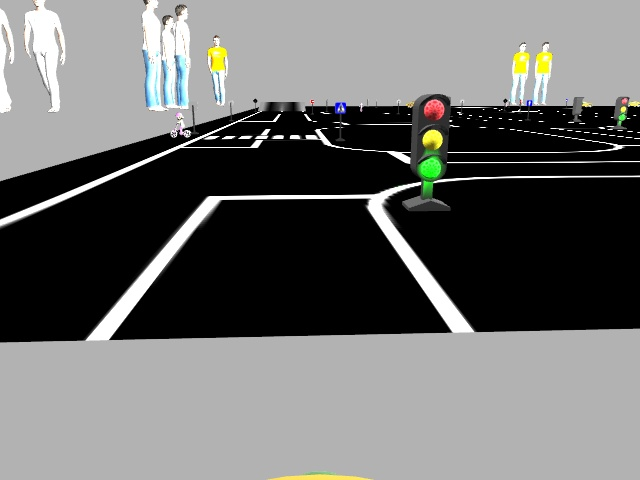Crosswalk: (335, 102, 345, 114)
Pedestrian: (169, 111, 190, 137)
TrafficLight: (409, 92, 450, 179)
